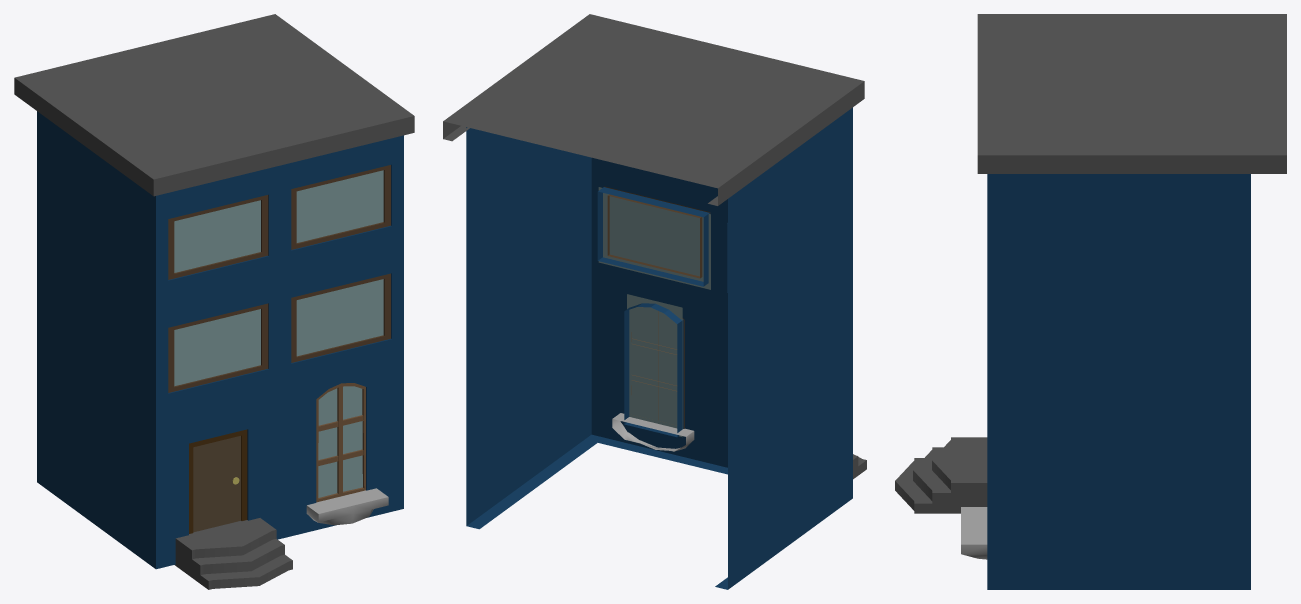
Rendered from casa.fbx.
3 renders of one model, left to right at view 1: azimuth 30°, elevation 25°; view 2: azimuth 150°, elevation 25°; view 3: azimuth 270°, elevation 25°, orthographic. The views are drawn at different scales.
Visible parts, largest first — view 1: casa, techo1, ventanas1, pCube15, puerta; view 2: casa, techo1, ventanas1, pCube15; view 3: casa, techo1.
Boxes of the visible parts, box(x1,y1,x2,y2) form: casa: box(37, 111, 403, 569); techo1: box(14, 14, 414, 589); ventanas1: box(174, 170, 383, 497); pCube15: box(168, 165, 390, 533); puerta: box(193, 436, 240, 532); casa: box(466, 107, 852, 589); techo1: box(443, 14, 866, 479); ventanas1: box(598, 187, 710, 437); pCube15: box(604, 186, 710, 428); casa: box(987, 174, 1250, 589); techo1: box(895, 14, 1286, 559).
Size of the model in its own units: 16.18 by 23.46 by 18.95.
